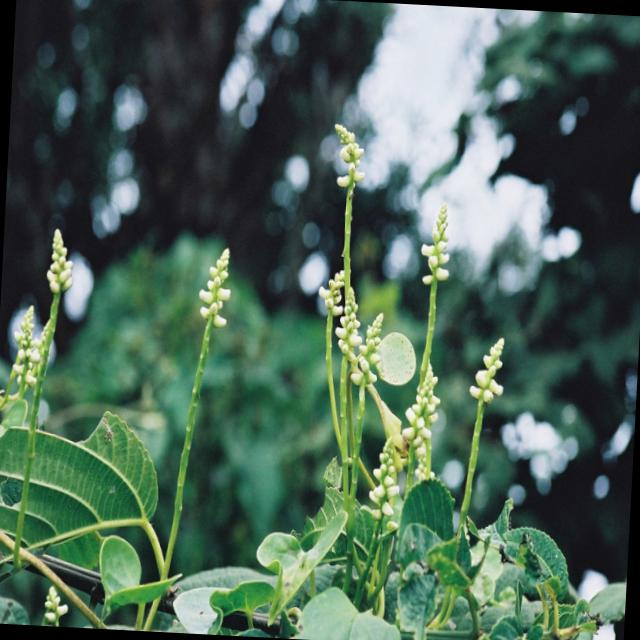Medicinal-Basale: (288, 102, 534, 638), (0, 213, 176, 612), (429, 483, 631, 640), (177, 247, 253, 464)
